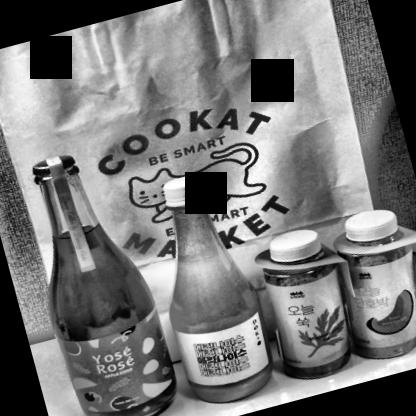yoserose: (59, 314, 183, 415)
